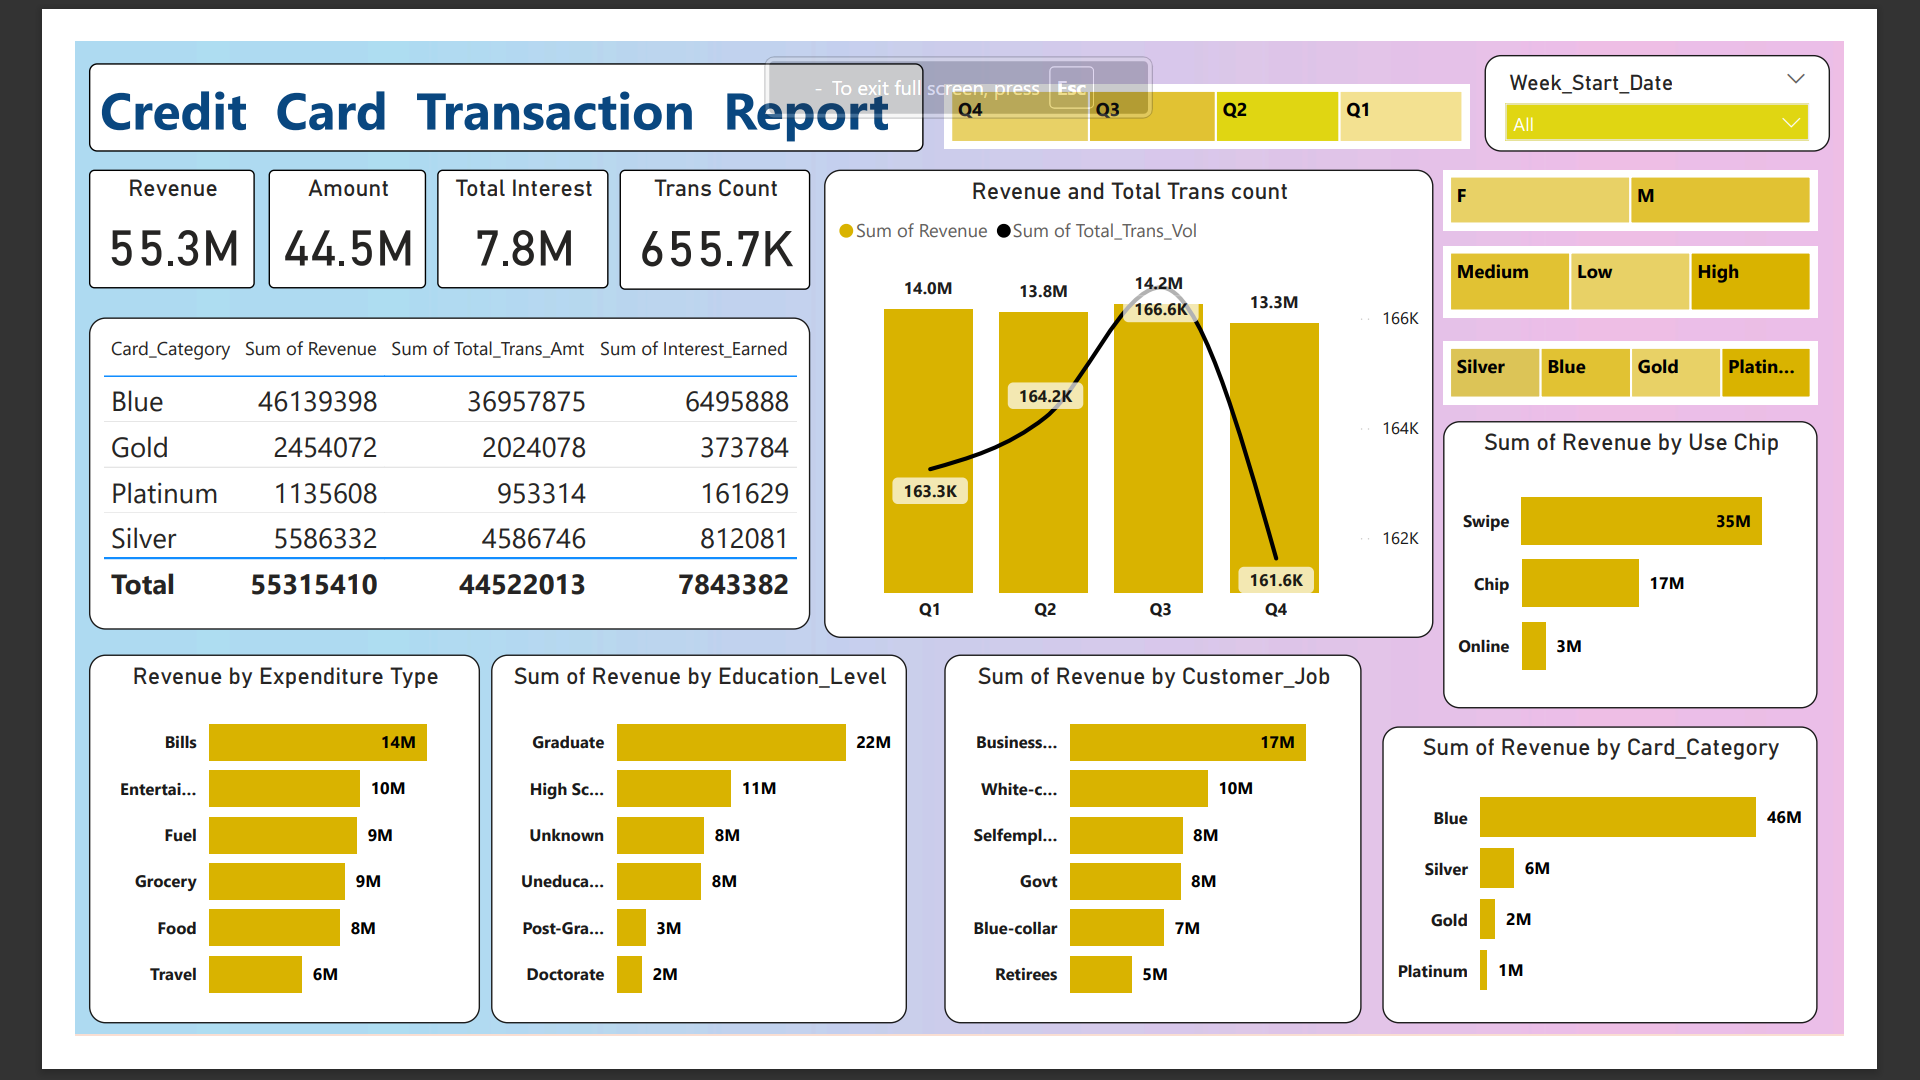

What the dashboard file says about the page in this screenshot:
{"tool":"powerbi","page":{"name":"cc_trans","canvas":[1280,720],"ordinal":2},"visuals":[{"type":"textbox","box":[9.9,16.5,603.7,63.8],"z":0},{"type":"lineStackedColumnComboChart","title":"Revenue and Total Trans count","fields":{"Category":["credit_card.Qtr"],"Y":["Sum(credit_card.Revenue)"],"Y2":["Sum(credit_card.Total_Trans_Vol)"]},"box":[541.7,92.9,441.7,339.3],"z":1000},{"type":"barChart","title":"Revenue by Expenditure Type","fields":{"Y":["Sum(credit_card.Revenue)"],"Category":["credit_card.Exp Type"]},"box":[9.5,444,283.3,266.7],"z":2000},{"type":"barChart","fields":{"Category":["customer.Education_Level"],"Y":["Sum(credit_card.Revenue)"]},"box":[301.2,444,301.2,266.7],"z":3000},{"type":"barChart","fields":{"Category":["customer.Customer_Job"],"Y":["Sum(credit_card.Revenue)"]},"box":[628.6,444,302.4,266.7],"z":4000},{"type":"barChart","fields":{"Category":["credit_card.Card_Category"],"Y":["Sum(credit_card.Revenue)"]},"box":[946.4,496.4,314.3,214.3],"z":5000},{"type":"barChart","fields":{"Category":["credit_card.Use Chip"],"Y":["Sum(credit_card.Revenue)"]},"box":[990.5,275,270.2,208.3],"z":6000},{"type":"tableEx","fields":{"Values":["credit_card.Card_Category","Sum(credit_card.Revenue)","Sum(credit_card.Total_Trans_Amt)","Sum(credit_card.Interest_Earned)"]},"box":[9.5,200,522.6,226.2],"z":7000},{"type":"card","title":"Revenue","fields":{"Values":["Sum(credit_card.Revenue)"]},"box":[9.5,92.9,120.2,85.7],"z":8000},{"type":"card","title":"Amount","fields":{"Values":["Sum(credit_card.Total_Trans_Amt)"]},"box":[140.5,92.9,113.1,85.7],"z":9000},{"type":"card","title":"Total Interest","fields":{"Values":["Sum(credit_card.Interest_Earned)"]},"box":[261.9,92.9,123.8,85.7],"z":10000},{"type":"card","title":"Trans Count","fields":{"Values":["Sum(credit_card.Total_Trans_Vol)"]},"box":[394.2,94.2,137.2,84.9],"z":11000},{"type":"slicer","fields":{"Values":["credit_card.Week_Start_Date"]},"box":[1020.2,9.5,250,70.2],"z":12000},{"type":"treemap","fields":{"Group":["credit_card.Qtr"],"Values":["Avg(credit_card.Client_Num)"]},"box":[629,30.8,380.5,47.3],"z":13000},{"type":"treemap","fields":{"Group":["customer.Gender"],"Values":["Avg(credit_card.Client_Num)"]},"box":[990.5,92.9,270.2,44],"z":14000},{"type":"treemap","fields":{"Group":["credit_card.Card_Category"],"Values":["Avg(credit_card.Client_Num)"]},"box":[990.5,216.7,270.2,46.4],"z":15000},{"type":"treemap","fields":{"Group":["customer.IncomeGroup"],"Values":["Avg(credit_card.Client_Num)"]},"box":[990.5,147.6,270.2,52.4],"z":16000}]}

Visuals, with their boxes in screenshot pixels (x1, y1, x2, y2), scaled from the page's 1280x720 canvas onto the 1920x1080 screenshot:
textbox: pyautogui.locateOnScreen(15, 25, 920, 120)
"Revenue and Total Trans count" lineStackedColumnComboChart: pyautogui.locateOnScreen(813, 139, 1475, 648)
"Revenue by Expenditure Type" barChart: pyautogui.locateOnScreen(14, 666, 439, 1066)
barChart - customer.Education_Level x Sum(credit_card.Revenue): pyautogui.locateOnScreen(452, 666, 904, 1066)
barChart - customer.Customer_Job x Sum(credit_card.Revenue): pyautogui.locateOnScreen(943, 666, 1396, 1066)
barChart - credit_card.Card_Category x Sum(credit_card.Revenue): pyautogui.locateOnScreen(1420, 745, 1891, 1066)
barChart - credit_card.Use Chip x Sum(credit_card.Revenue): pyautogui.locateOnScreen(1486, 412, 1891, 725)
tableEx - credit_card.Card_Category x Sum(credit_card.Revenue): pyautogui.locateOnScreen(14, 300, 798, 639)
"Revenue" card: pyautogui.locateOnScreen(14, 139, 195, 268)
"Amount" card: pyautogui.locateOnScreen(211, 139, 380, 268)
"Total Interest" card: pyautogui.locateOnScreen(393, 139, 579, 268)
"Trans Count" card: pyautogui.locateOnScreen(591, 141, 797, 269)
slicer - credit_card.Week_Start_Date: pyautogui.locateOnScreen(1530, 14, 1905, 120)
treemap - credit_card.Qtr x Avg(credit_card.Client_Num): pyautogui.locateOnScreen(944, 46, 1514, 117)
treemap - customer.Gender x Avg(credit_card.Client_Num): pyautogui.locateOnScreen(1486, 139, 1891, 205)
treemap - credit_card.Card_Category x Avg(credit_card.Client_Num): pyautogui.locateOnScreen(1486, 325, 1891, 395)
treemap - customer.IncomeGroup x Avg(credit_card.Client_Num): pyautogui.locateOnScreen(1486, 221, 1891, 300)
